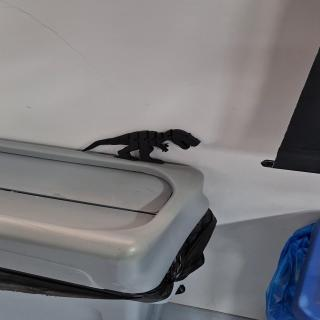dino: (82, 129, 202, 164)
